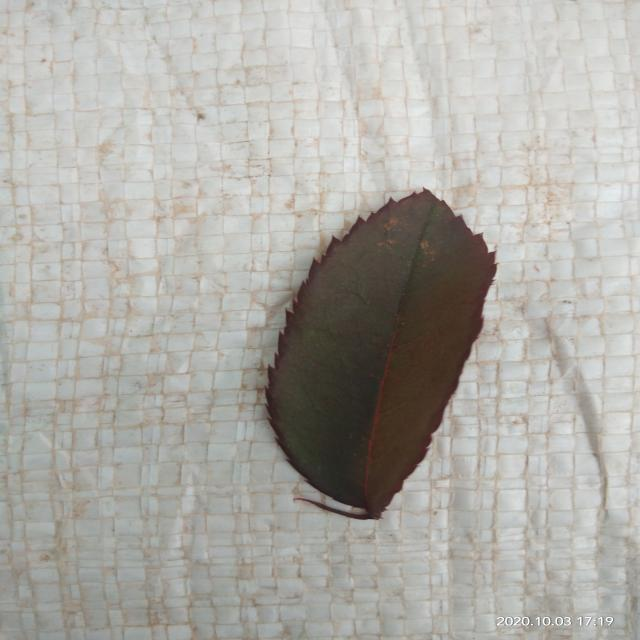rose: (265, 190, 497, 520)
